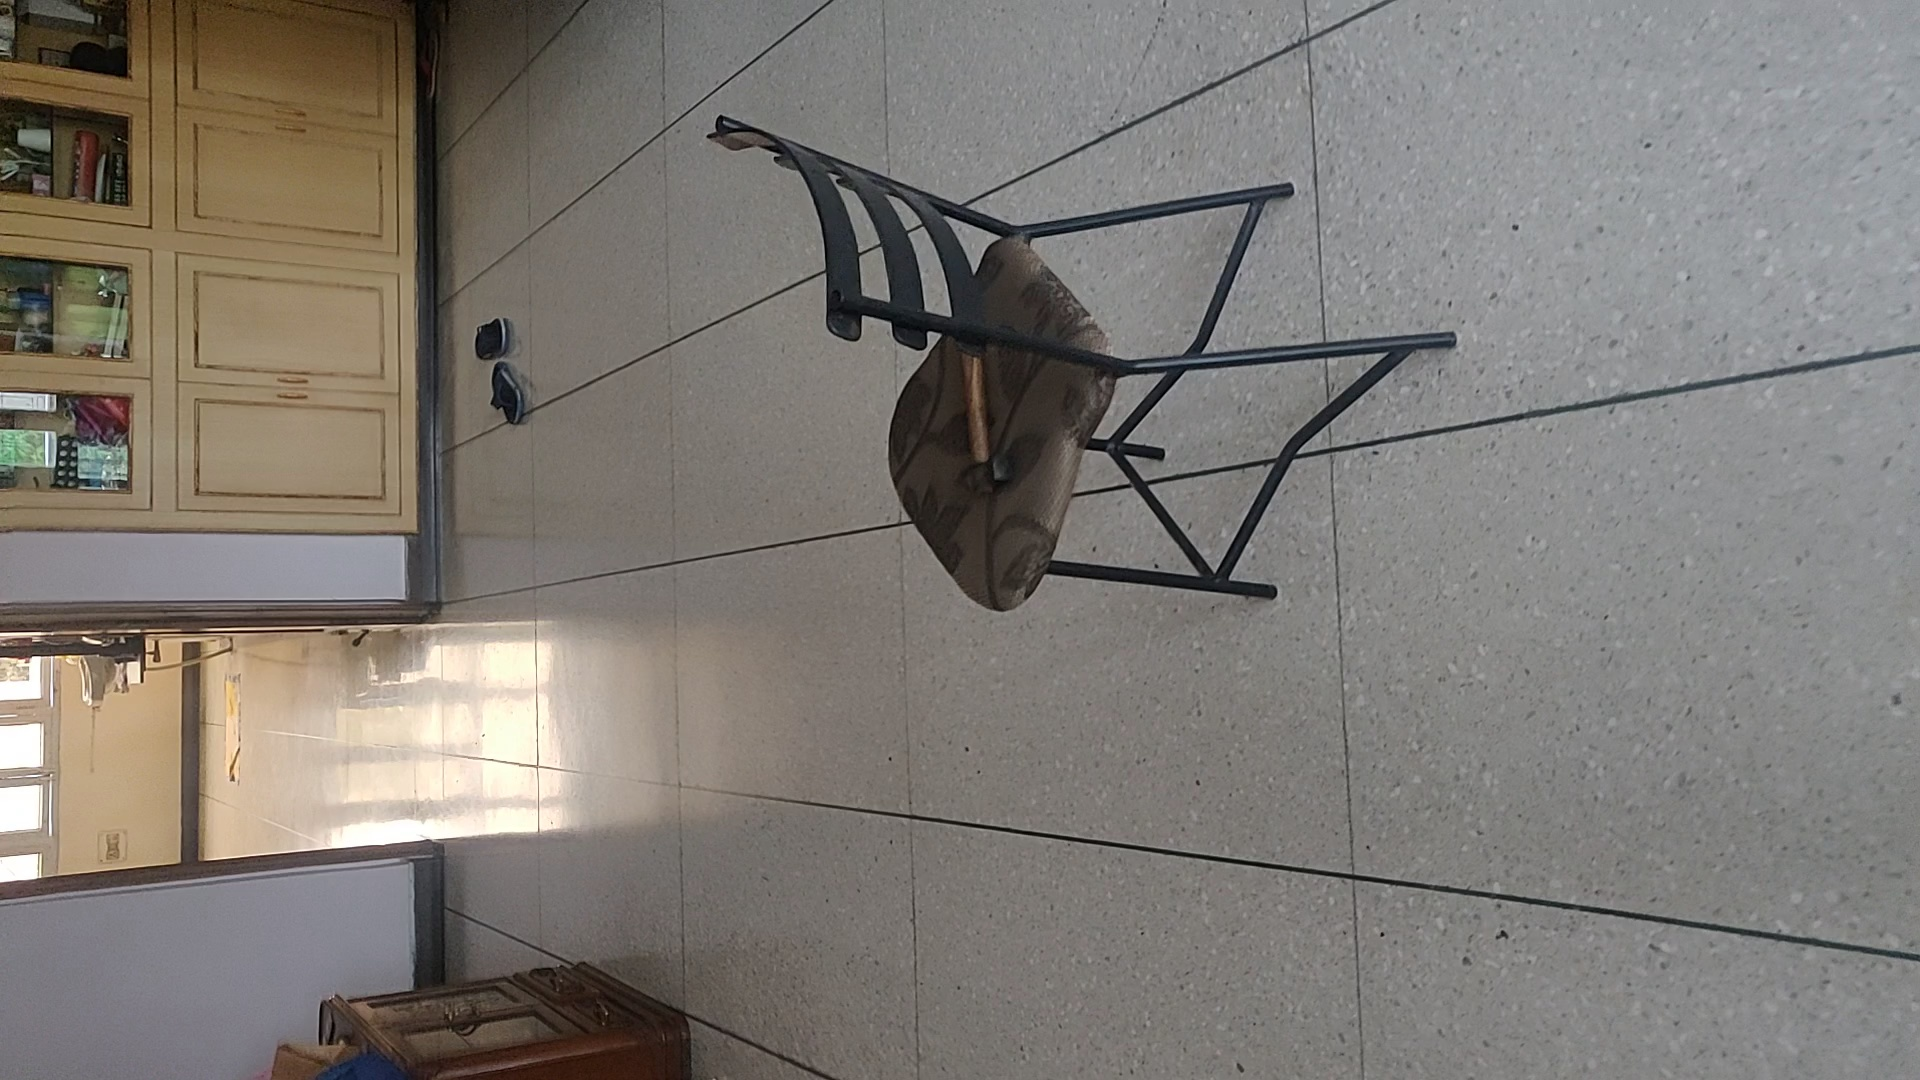hammer: (948, 340, 1015, 498)
